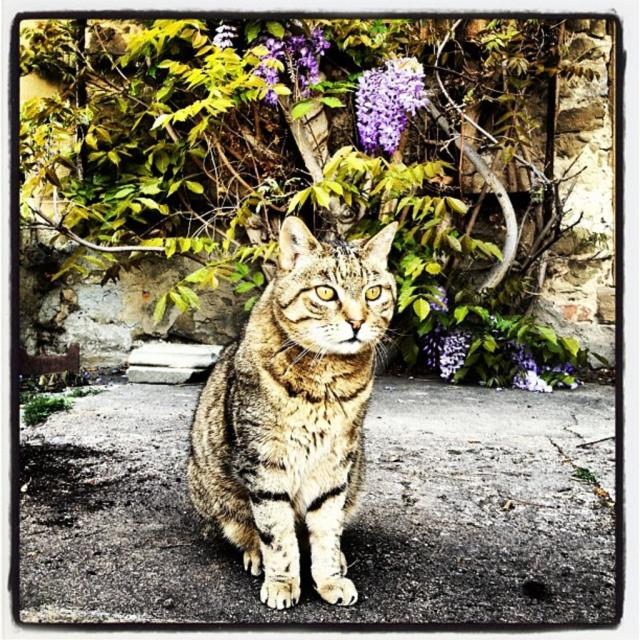Cat: (185, 215, 412, 610)
